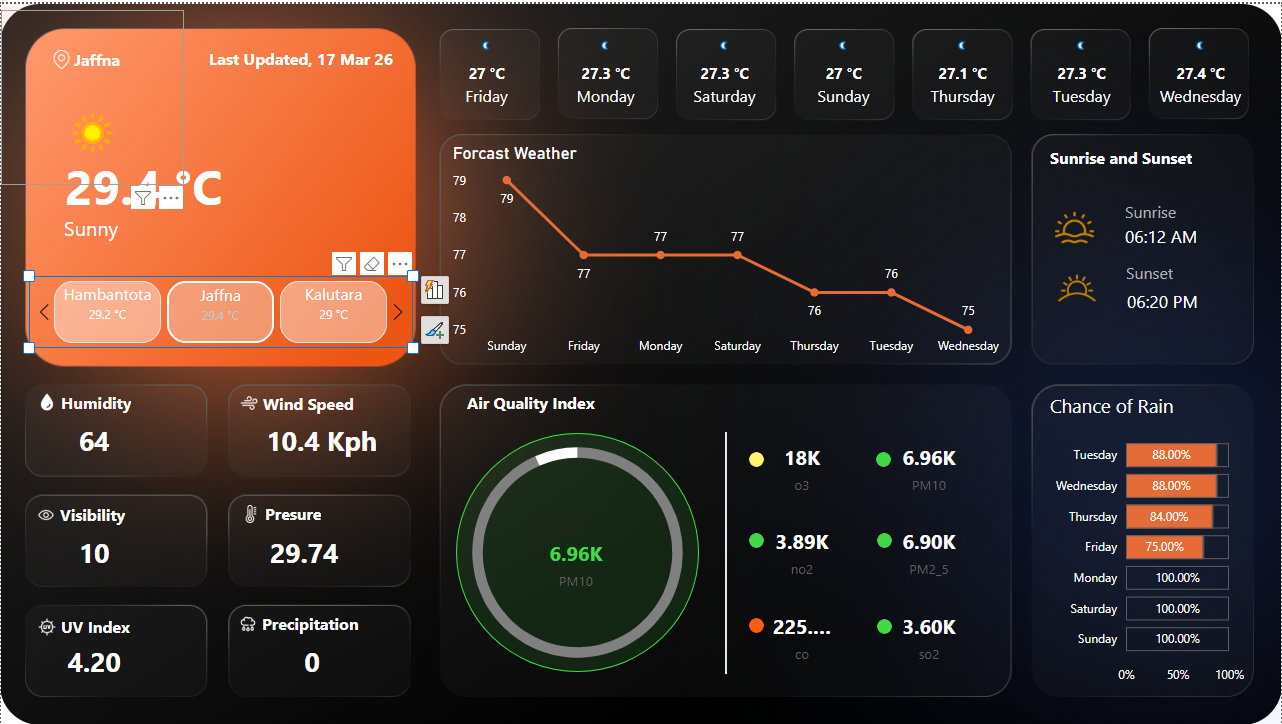

The dashboard page shown, as its layout file describes it:
{"tool":"powerbi","page":{"name":"Page 1","canvas":[1280,720],"ordinal":0},"visuals":[{"type":"image","box":[0,0,1280,720.1],"z":0},{"type":"shape","box":[455,429,243,239],"z":1000},{"type":"advancedSlicerVisual","fields":{"Values":["Current.location.name"],"Label":["_Measures.Curr_Temp"]},"box":[27.9,271.8,384.5,72],"z":2000},{"type":"shape","box":[64.4,132.2,193.3,97.8],"z":3000},{"type":"shape","box":[63.3,206.7,187.8,33.3],"z":4000},{"type":"shape","box":[73.3,38.9,144.4,33.3],"z":5000},{"type":"shape","box":[204.4,36.7,187.8,34.4],"z":6000},{"type":"image","box":[50.7,45,19.3,21.4],"z":7000},{"type":"cardVisual","fields":{"Data":["Min(Current.current.condition.icon)"]},"box":[0,5.6,183.3,175.6],"z":8000},{"type":"image","box":[36.9,388.1,18.1,19.4],"z":9000},{"type":"shape","box":[60,380.6,136.2,34.4],"z":10000},{"type":"image","box":[238.7,389,18.1,19.4],"z":11000},{"type":"shape","box":[261.8,381.5,136.2,34.4],"z":12000},{"type":"image","box":[36,500.9,18.1,19.4],"z":13000},{"type":"shape","box":[59.1,493.4,136.2,34.4],"z":14000},{"type":"image","box":[36.9,612.7,18.1,19.4],"z":15000},{"type":"shape","box":[60,605.2,136.2,34.4],"z":16000},{"type":"image","box":[240.5,499.9,18.1,19.4],"z":17000},{"type":"shape","box":[263.6,492.4,136.2,34.4],"z":18000},{"type":"image","box":[237.8,609.9,18.1,19.4],"z":19000},{"type":"shape","box":[260.9,602.4,136.2,34.4],"z":20000},{"type":"card","fields":{"Values":["Sum(Current.current.humidity)"]},"box":[37.5,408.8,110,57.5],"z":21000},{"type":"card","fields":{"Values":["_Measures.Wind_Speed"]},"box":[247.5,408.8,145,57.5],"z":22000},{"type":"card","fields":{"Values":["Sum(Current.current.vis_km)"]},"box":[37.5,521.2,110,57.5],"z":23000},{"type":"card","fields":{"Values":["Sum(Current.current.pressure_in)"]},"box":[247.5,521.2,110,57.5],"z":24000},{"type":"card","fields":{"Values":["Sum(Current.current.uv)"]},"box":[37.5,630,110,57.5],"z":25000},{"type":"card","fields":{"Values":["Sum(Current.current.precip_in)"]},"box":[256.2,630,110,57.5],"z":26000},{"type":"advancedSlicerVisual","fields":{"Values":["ForcastDay.DayName"]},"box":[405,21.7,875,98.3],"z":27000},{"type":"lineChart","title":"Forcast Weather","fields":{"Category":["ForcastDay.DayName"],"Y":["Sum(ForcastDay.forecast.forecastday.day.avghumidity)"]},"box":[447.1,138.6,561.4,221.4],"z":28000},{"type":"shape","box":[1048.6,135.7,198.6,34.3],"z":29000},{"type":"shape","box":[1124.2,218.3,142.5,25.8],"z":30000},{"type":"shape","box":[1124.2,187.5,155,38.3],"z":31000},{"type":"image","box":[1054.4,203.3,38.9,40],"z":32000},{"type":"image","box":[1051.1,257.8,50,52.2],"z":33000},{"type":"shape","box":[1125.6,283.3,142.2,26.7],"z":34000},{"type":"shape","box":[1125,248.6,155,38.3],"z":35000},{"type":"hundredPercentStackedBarChart","title":"Chance of Rain","fields":{"Y":["Sum(ForcastDay.forecast.forecastday.day.daily_chance_of_rain)","Current.LeftValueRain"],"Category":["ForcastDay.DayName"]},"box":[1043.8,388.8,203.8,300],"z":36000},{"type":"shape","box":[466.2,381.2,136.2,35],"z":37000},{"type":"card","fields":{"Values":["Sum(ColomboDistrict.current.air_quality.pm10)"]},"box":[890,426.2,76.2,73.8],"z":38000},{"type":"card","fields":{"Values":["Sum(ColomboDistrict.current.air_quality.pm2_5)"]},"box":[890,510,76.2,73.8],"z":39000},{"type":"card","fields":{"Values":["Sum(ColomboDistrict.current.air_quality.so2)"]},"box":[890,595,76.2,73.8],"z":40000},{"type":"card","fields":{"Values":["Sum(ColomboDistrict.current.air_quality.o3)"]},"box":[762.5,426.2,76.2,73.8],"z":41000},{"type":"card","fields":{"Values":["Sum(ColomboDistrict.current.air_quality.no2)"]},"box":[762.5,510,76.2,73.8],"z":42000},{"type":"card","fields":{"Values":["Sum(ColomboDistrict.current.air_quality.co)"]},"box":[762.5,595,76.2,73.8],"z":43000},{"type":"shape","box":[747.5,447.5,15,15],"z":44000},{"type":"shape","box":[875,447.5,15,15],"z":45000},{"type":"shape","box":[748.3,529.2,15,15],"z":46000},{"type":"shape","box":[875.8,529.2,15,15],"z":47000},{"type":"shape","box":[875.8,615,15,15],"z":48000},{"type":"shape","box":[747.5,614.2,15,15],"z":49000},{"type":"shape","box":[575,428.3,300,241.7],"z":50000},{"type":"card","fields":{"Values":["Sum(ColomboDistrict.current.air_quality.pm10)"]},"box":[536.7,513.3,76.7,73.3],"z":51000},{"type":"donutChart","fields":{"Y":["Sum(ColomboDistrict.current.air_quality.pm10)","_Measures.Left_PM10"]},"box":[440,411,273,275],"z":52000}]}

Visuals, with their boxes on the page's 1280x720 design canvas (x1, y1, x2, y2). These are canvas units, not pixel positions in the 1282x724 screenshot, which may show the page scaled, cropped or inside an application window:
image: (left=0, top=0, right=1280, bottom=720)
shape: (left=455, top=429, right=698, bottom=668)
advancedSlicerVisual - Current.location.name x _Measures.Curr_Temp: (left=28, top=272, right=412, bottom=344)
shape: (left=64, top=132, right=258, bottom=230)
shape: (left=63, top=207, right=251, bottom=240)
shape: (left=73, top=39, right=218, bottom=72)
shape: (left=204, top=37, right=392, bottom=71)
image: (left=51, top=45, right=70, bottom=66)
cardVisual - Min(Current.current.condition.icon): (left=0, top=6, right=183, bottom=181)
image: (left=37, top=388, right=55, bottom=408)
shape: (left=60, top=381, right=196, bottom=415)
image: (left=239, top=389, right=257, bottom=408)
shape: (left=262, top=382, right=398, bottom=416)
image: (left=36, top=501, right=54, bottom=520)
shape: (left=59, top=493, right=195, bottom=528)
image: (left=37, top=613, right=55, bottom=632)
shape: (left=60, top=605, right=196, bottom=640)
image: (left=240, top=500, right=259, bottom=519)
shape: (left=264, top=492, right=400, bottom=527)
image: (left=238, top=610, right=256, bottom=629)
shape: (left=261, top=602, right=397, bottom=637)
card - Sum(Current.current.humidity): (left=38, top=409, right=148, bottom=466)
card - _Measures.Wind_Speed: (left=248, top=409, right=392, bottom=466)
card - Sum(Current.current.vis_km): (left=38, top=521, right=148, bottom=579)
card - Sum(Current.current.pressure_in): (left=248, top=521, right=358, bottom=579)
card - Sum(Current.current.uv): (left=38, top=630, right=148, bottom=688)
card - Sum(Current.current.precip_in): (left=256, top=630, right=366, bottom=688)
advancedSlicerVisual - ForcastDay.DayName: (left=405, top=22, right=1280, bottom=120)
"Forcast Weather" lineChart: (left=447, top=139, right=1008, bottom=360)
shape: (left=1049, top=136, right=1247, bottom=170)
shape: (left=1124, top=218, right=1267, bottom=244)
shape: (left=1124, top=188, right=1279, bottom=226)
image: (left=1054, top=203, right=1093, bottom=243)
image: (left=1051, top=258, right=1101, bottom=310)
shape: (left=1126, top=283, right=1268, bottom=310)
shape: (left=1125, top=249, right=1280, bottom=287)
"Chance of Rain" hundredPercentStackedBarChart: (left=1044, top=389, right=1248, bottom=689)
shape: (left=466, top=381, right=602, bottom=416)
card - Sum(ColomboDistrict.current.air_quality.pm10): (left=890, top=426, right=966, bottom=500)
card - Sum(ColomboDistrict.current.air_quality.pm2_5): (left=890, top=510, right=966, bottom=584)
card - Sum(ColomboDistrict.current.air_quality.so2): (left=890, top=595, right=966, bottom=669)
card - Sum(ColomboDistrict.current.air_quality.o3): (left=762, top=426, right=839, bottom=500)
card - Sum(ColomboDistrict.current.air_quality.no2): (left=762, top=510, right=839, bottom=584)
card - Sum(ColomboDistrict.current.air_quality.co): (left=762, top=595, right=839, bottom=669)
shape: (left=748, top=448, right=762, bottom=462)
shape: (left=875, top=448, right=890, bottom=462)
shape: (left=748, top=529, right=763, bottom=544)
shape: (left=876, top=529, right=891, bottom=544)
shape: (left=876, top=615, right=891, bottom=630)
shape: (left=748, top=614, right=762, bottom=629)
shape: (left=575, top=428, right=875, bottom=670)
card - Sum(ColomboDistrict.current.air_quality.pm10): (left=537, top=513, right=613, bottom=587)
donutChart - Sum(ColomboDistrict.current.air_quality.pm10) x _Measures.Left_PM10: (left=440, top=411, right=713, bottom=686)
